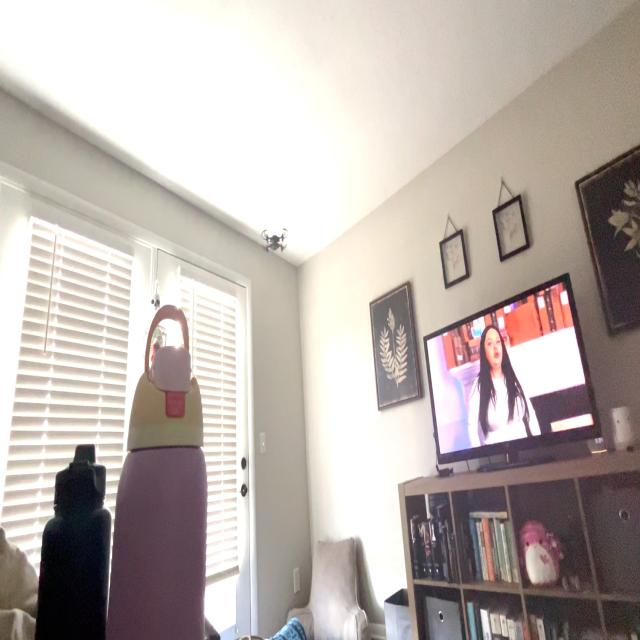drone: (249, 209, 293, 263)
